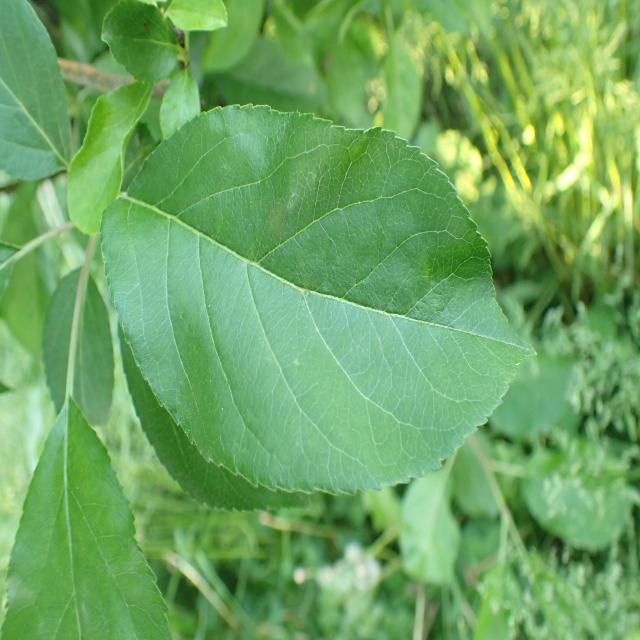scab: (196, 108, 424, 276)
